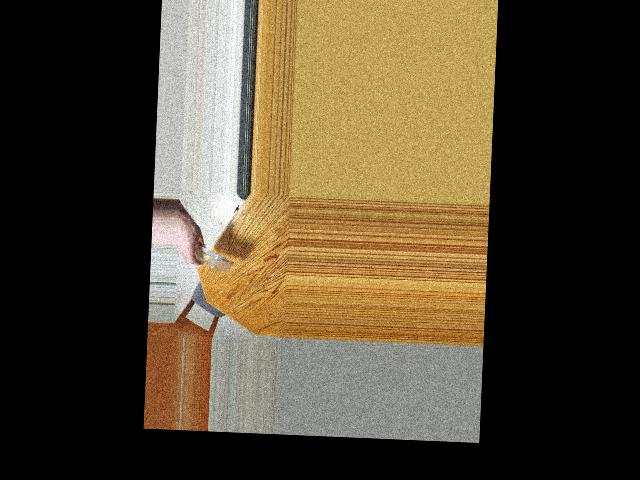cheese: (188, 245, 235, 272)
